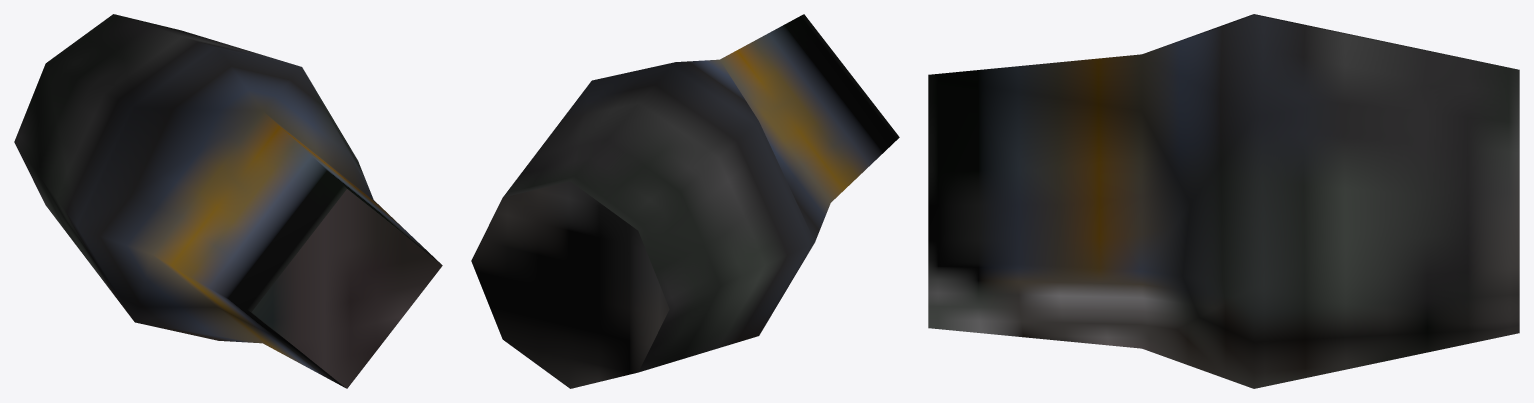
Rendered from Sniper_Rifle_Object003_Stock_Main_(000453).glb.
The picture shows the model from 3 angles, left to right: view 1: azimuth 30°, elevation 25°; view 2: azimuth 150°, elevation 25°; view 3: azimuth 270°, elevation 25°; orthographic projection. The views are drawn at different scales.
Visible parts, largest first — view 1: Object003; view 2: Object003; view 3: Object003.
Part boxes in pixels (bbox=[...]): Object003: bbox=[14, 14, 442, 388]; Object003: bbox=[471, 14, 899, 388]; Object003: bbox=[928, 14, 1519, 388].
Size of the model in its own units: 0.0822 by 0.0822 by 0.1191.
Materials: 1 (1 with a texture image).
